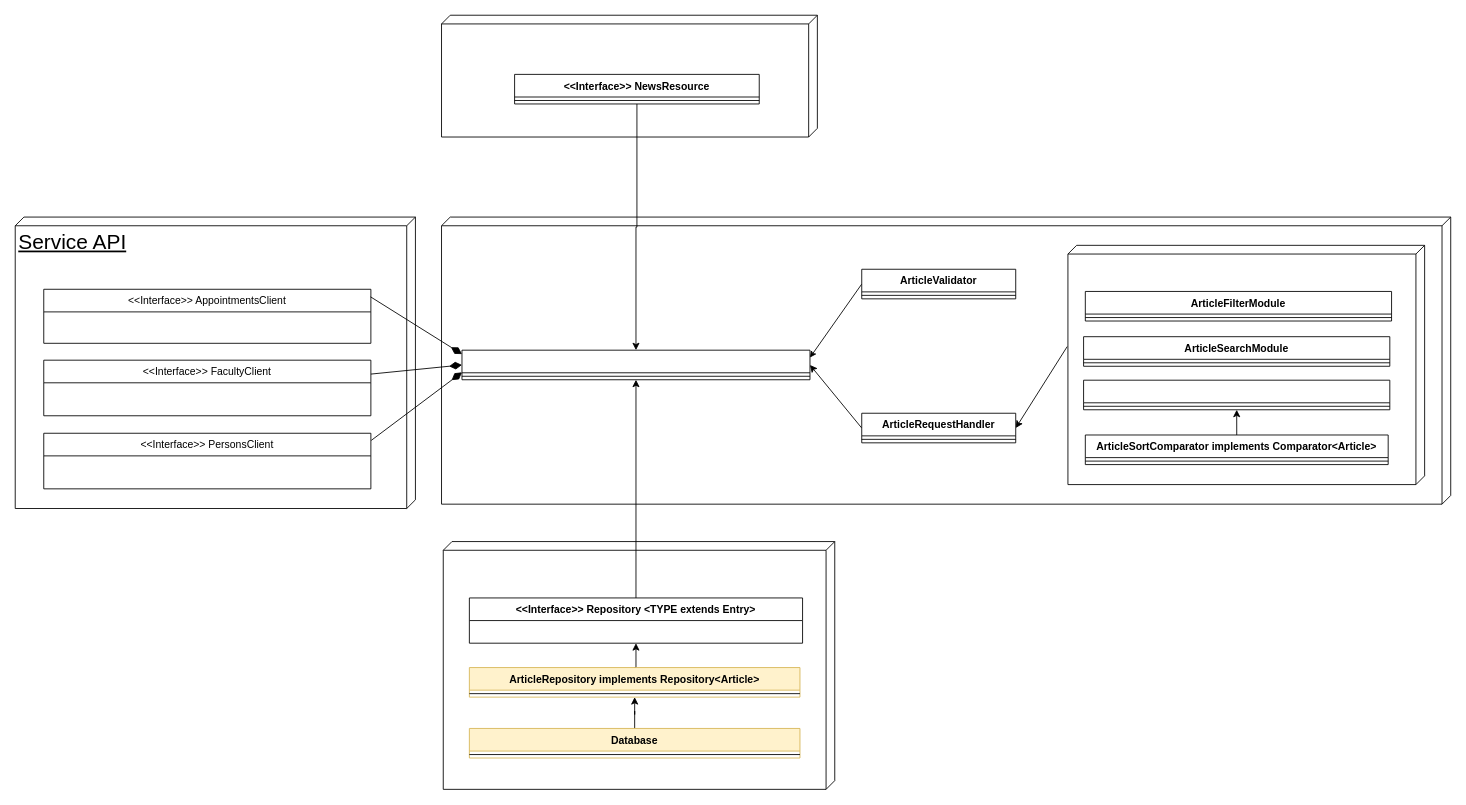
The diagram is 1466 pixels wide and 805 high, and some of its shapes have lost their labels. The shapes that lost their labels are listed below. From the top down, each one's box as (x1, y1, x2, y2) in pixels, then its label:
(441, 14, 817, 137): Layer: Presentation
(461, 349, 810, 380): NewsController implements NewsRessource
(441, 216, 1451, 504): Layer: Business
(1067, 244, 1425, 485): Modules: RequestHandler
(1083, 379, 1390, 410): ArticleSortModule
(442, 541, 835, 789): Layer: Repository
